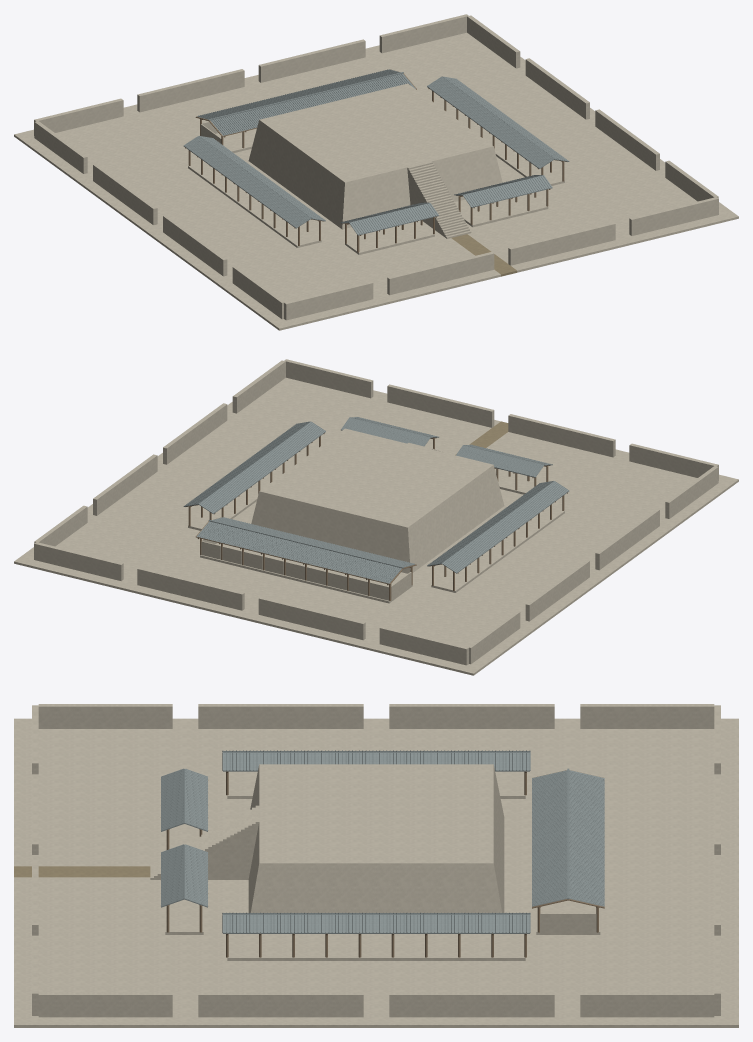
The model's file is lingtai-A-quality.gltf.
3 views of the same model, one above another, from view 1: azimuth 30°, elevation 25°; view 2: azimuth 150°, elevation 25°; view 3: azimuth 270°, elevation 25° (orthographic). The views are drawn at different scales.
Visible parts, largest first — view 1: ground_cell.001, central_square_platform_C, ground_cell.005, ground_cell.004, ground_cell, north_v1_tile_shells, side_hall_deck.001, side_hall_deck.003, C_access_stair, side_hall_floor, perimeter_wall_C.002, perimeter_wall_C.005 (+23 smaller); view 2: ground_cell.001, central_square_platform_C, ground_cell.005, ground_cell, ground_cell.004, north_v1_tile_shells, side_hall_deck.001, side_hall_deck.003, side_hall_floor, perimeter_wall_C.001, perimeter_wall_C.006, perimeter_wall_C.005 (+21 smaller); view 3: ground_cell.005, ground_cell.001, central_square_platform_C, ground_cell, ground_cell.004, north_v1_tile_shells, side_hall_deck.002, side_hall_floor.001, perimeter_wall_C.013, perimeter_wall_C.014, perimeter_wall_C.009, perimeter_wall_C.010 (+25 smaller).
Part boxes in pixels (<box>): ground_cell.001: <box>14,87,446,293</box>; central_square_platform_C: <box>248,83,502,229</box>; ground_cell.005: <box>252,32,672,232</box>; ground_cell.004: <box>467,184,738,272</box>; ground_cell: <box>229,238,500,330</box>; north_v1_tile_shells: <box>197,69,415,135</box>; side_hall_deck.001: <box>183,136,310,228</box>; side_hall_deck.003: <box>427,77,554,168</box>; C_access_stair: <box>407,161,471,238</box>; side_hall_floor: <box>188,162,321,247</box>; perimeter_wall_C.002: <box>508,222,615,265</box>; perimeter_wall_C.005: <box>137,69,244,112</box>; ground_cell.001: <box>252,469,688,675</box>; central_square_platform_C: <box>251,428,504,573</box>; ground_cell.005: <box>14,404,340,617</box>; ground_cell: <box>486,432,738,517</box>; ground_cell.004: <box>229,377,500,455</box>; north_v1_tile_shells: <box>196,517,414,583</box>; side_hall_deck.001: <box>442,481,569,573</box>; side_hall_deck.003: <box>198,422,325,513</box>; side_hall_floor: <box>431,507,564,592</box>; perimeter_wall_C.001: <box>508,414,615,457</box>; perimeter_wall_C.006: <box>137,567,244,610</box>; perimeter_wall_C.005: <box>258,597,365,640</box>; ground_cell.005: <box>150,877,738,1027</box>; ground_cell.001: <box>150,718,738,866</box>; central_square_platform_C: <box>248,764,504,912</box>; ground_cell: <box>14,718,150,866</box>; ground_cell.004: <box>14,877,150,1027</box>; north_v1_tile_shells: <box>532,770,604,906</box>; side_hall_deck.002: <box>223,914,529,933</box>; side_hall_floor.001: <box>227,942,525,960</box>; perimeter_wall_C.013: <box>198,992,363,1017</box>; perimeter_wall_C.014: <box>389,992,554,1017</box>; perimeter_wall_C.009: <box>198,704,363,728</box>; perimeter_wall_C.010: <box>389,704,554,728</box>.
Bounding box in the file's own units: 68 × 6.3 × 68.
Materials: 4 (4 with a texture image).
